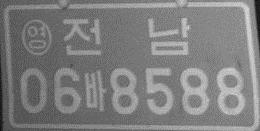0: (19, 66, 48, 114)
5: (144, 66, 175, 116)
6: (52, 66, 82, 115)
8: (214, 66, 246, 116), (179, 66, 209, 115), (109, 66, 138, 115)
바: (83, 68, 107, 113)
영: (20, 18, 52, 56)
전남_D: (62, 16, 191, 57)
